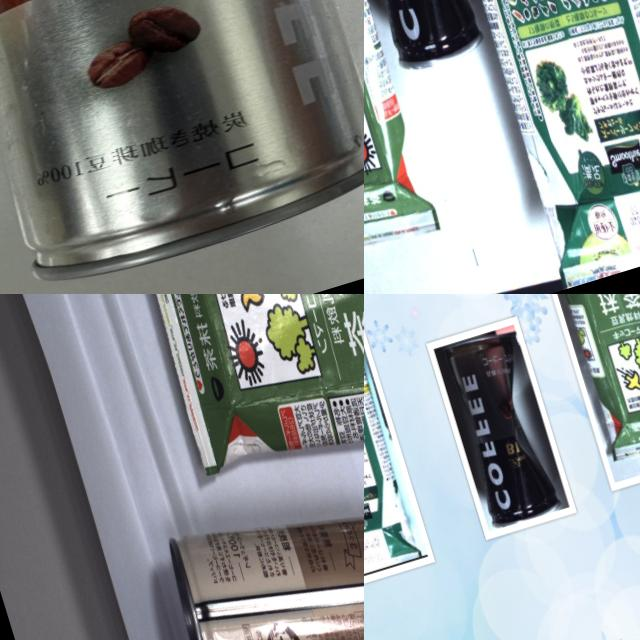Aluminium Foil: (402, 0, 640, 288), (104, 294, 364, 500), (364, 0, 440, 262), (527, 294, 640, 466), (364, 294, 429, 593)
Can: (0, 0, 364, 287), (155, 479, 364, 640), (434, 320, 570, 530)
